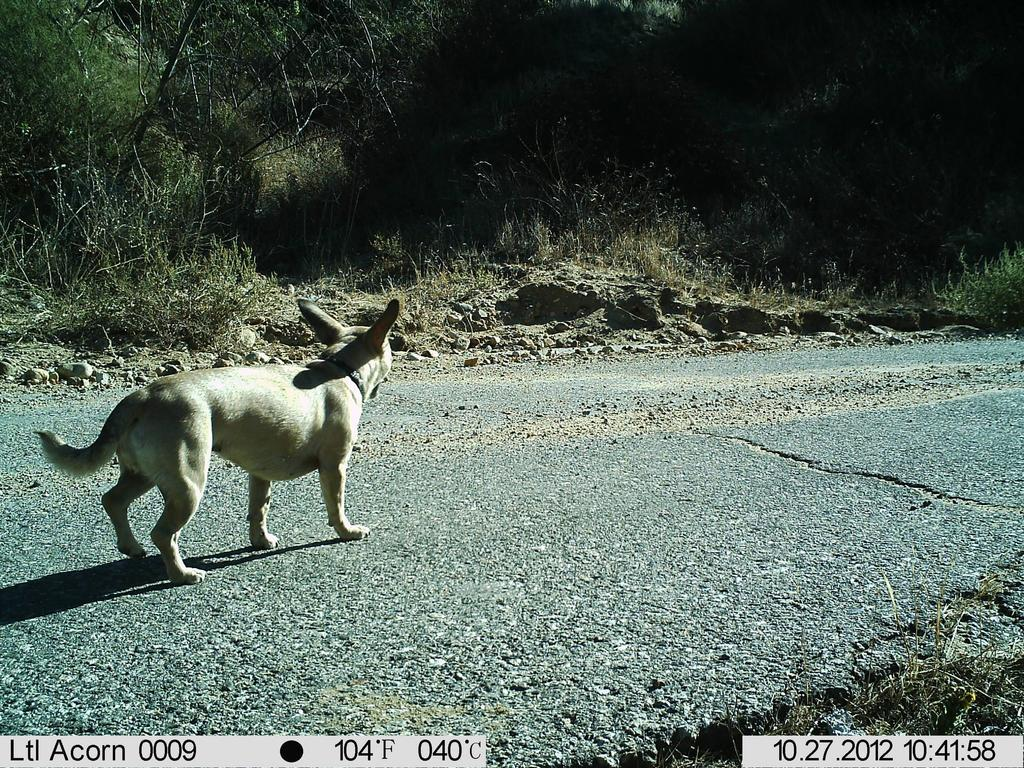dog: (27, 279, 413, 591)
